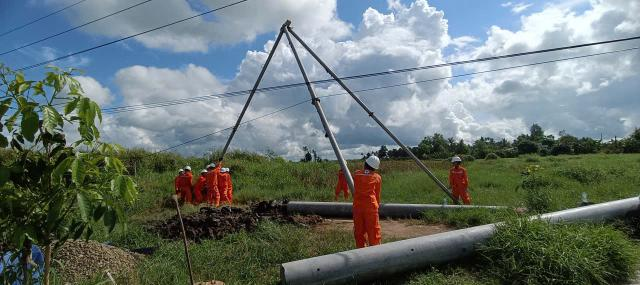helmet: (364, 153, 384, 173), (451, 155, 462, 164), (219, 167, 227, 175), (207, 163, 217, 168), (204, 163, 211, 169), (224, 166, 231, 172), (183, 165, 191, 170), (177, 168, 184, 173), (199, 170, 206, 174)
